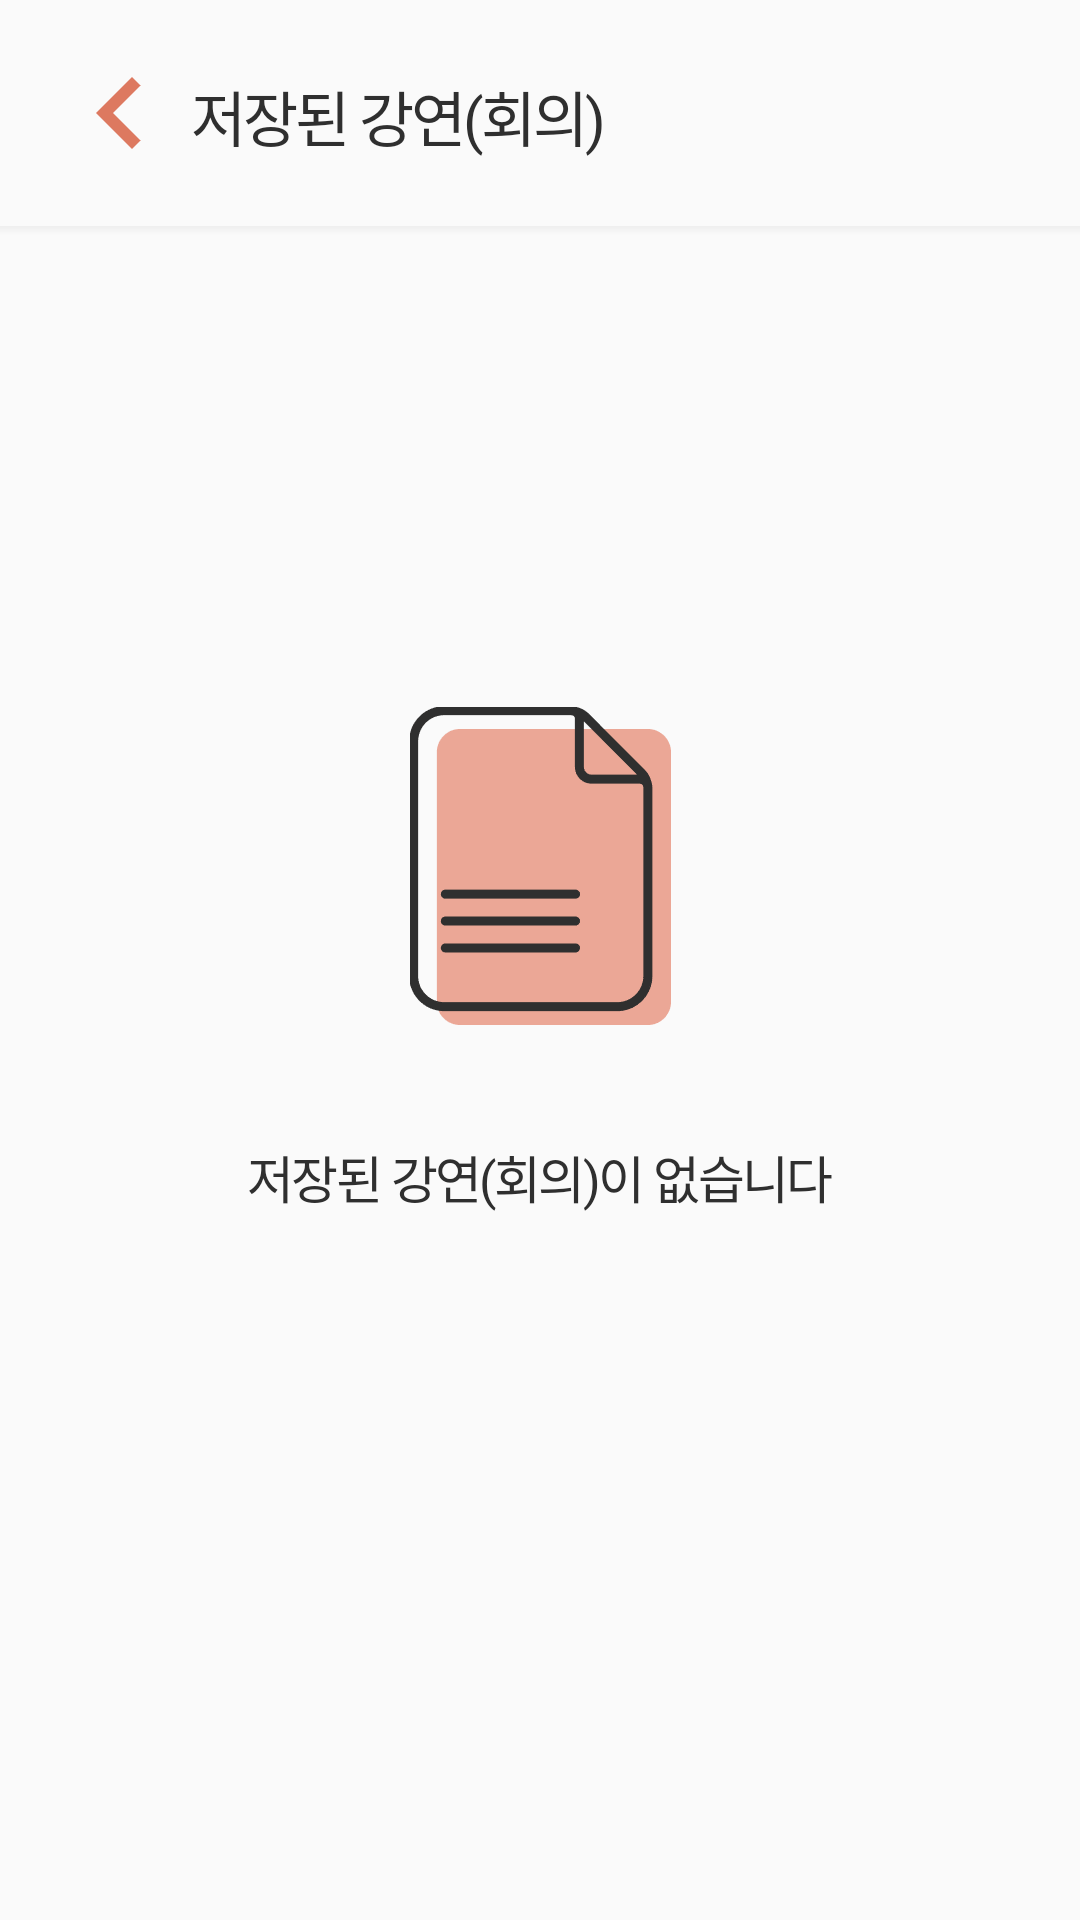

Named icons in this screenshot (1080 x 1920) and their centers, point (x, y):
note: point (540, 866)
뒤로가기: point (118, 113)
